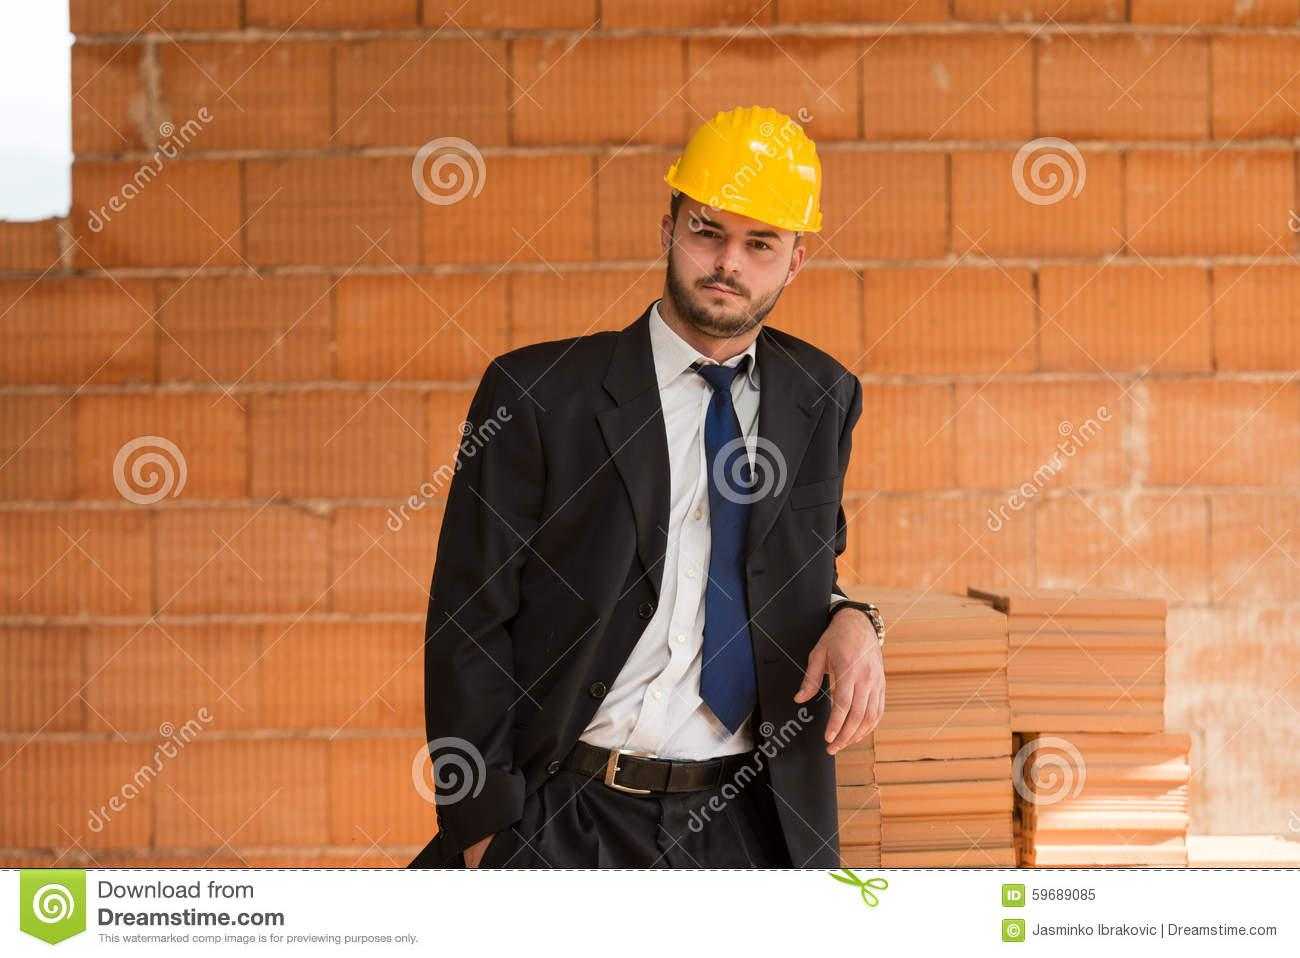helmet: (667, 104, 827, 234)
